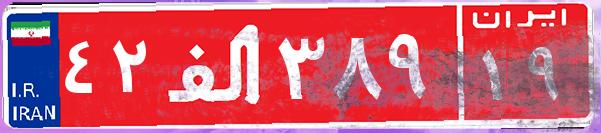1: (475, 38, 525, 113)
2: (110, 28, 158, 105)
3: (273, 28, 330, 110)
4: (57, 26, 110, 107)
8: (330, 28, 385, 110)
9: (385, 28, 445, 110), (525, 38, 570, 115)
الف: (158, 15, 273, 115)
